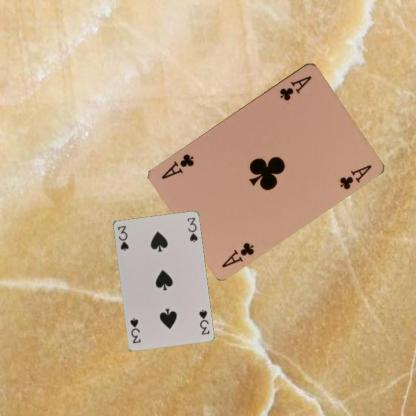3s: (196, 306, 210, 336), (115, 223, 129, 252)
Ac: (219, 239, 256, 269), (277, 72, 313, 102)
